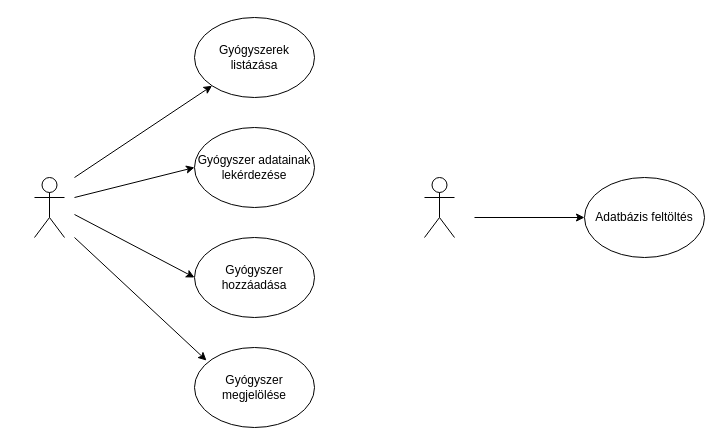
Image size: 722x445. Some labels were removed from this diagram. The shapes that lost their labels are listed below. From the top down, each one's centre as x and y in pixels, then its label:
At point (49, 207): "Felhasználó".
At point (439, 207): "Rendszer".
